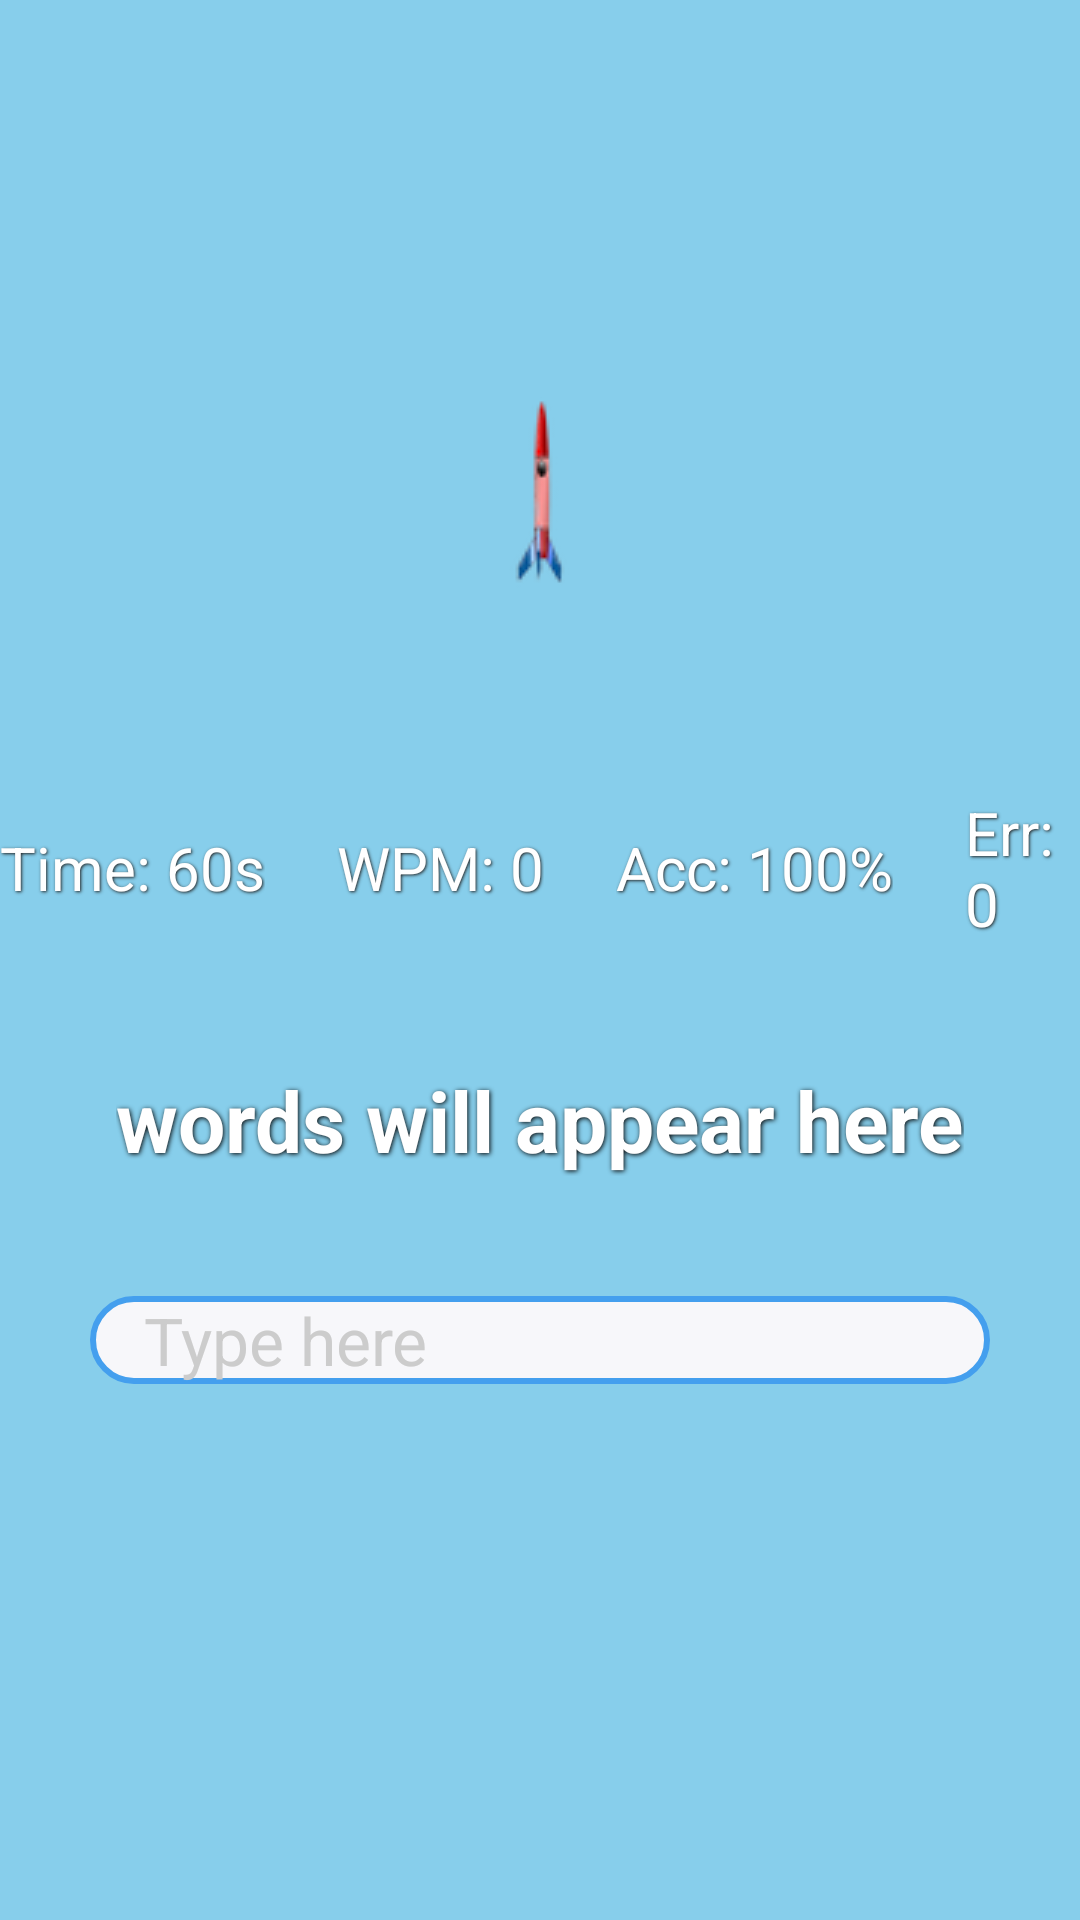

Where to tap for icons on this 1080 x 1920 app screen, as point (x, y):
Rocket: point (539, 492)
